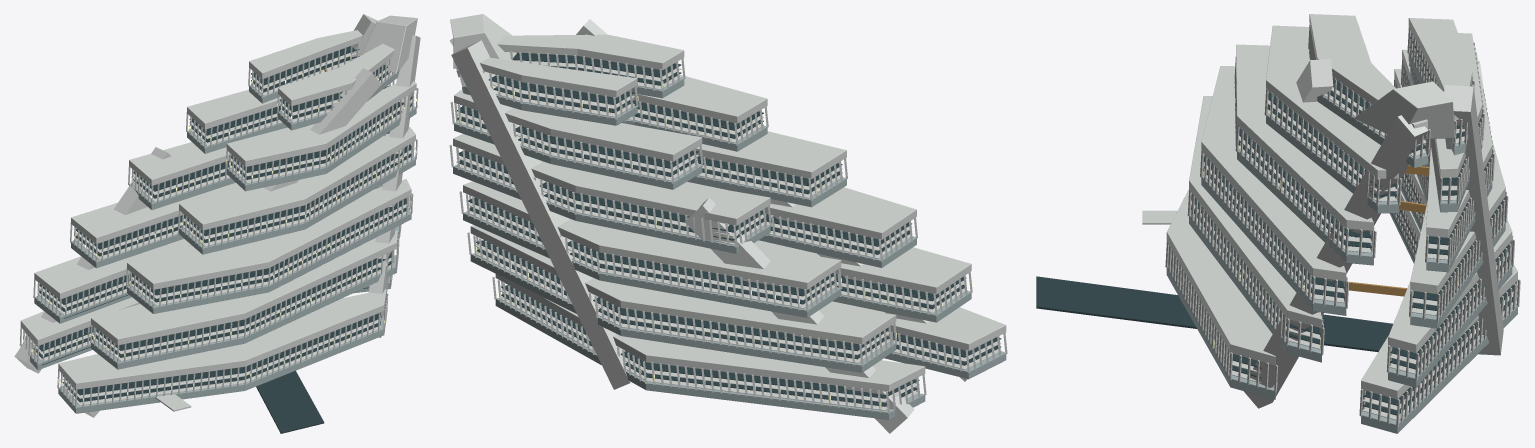
The picture shows the model from 3 angles, left to right: view 1: azimuth 30°, elevation 25°; view 2: azimuth 150°, elevation 25°; view 3: azimuth 270°, elevation 25°; orthographic projection. The views are drawn at different scales.
Parts seen in each view (by area): view 1: B02 | sunward inhabited canopy 0, B02 | sunward inhabited canopy 2, B02 | sunward inhabited canopy 1, B02 | sunward inhabited canopy 3, B02 | sunward inhabited canopy 4, B02 | landward inhabited canopy 2, B02 | landward inhabited canopy 1, B02 | sunward inhabited canopy 5, B01 | sunward tectonic plinth 0, B40 | ground portal approach, B01 | sunward tectonic plinth 1, B02 | landward inhabited canopy 3 (+43 smaller); view 2: B20 | continuous diagonal city backbone 2, B02 | landward inhabited canopy 1, B02 | landward inhabited canopy 2, B02 | landward inhabited canopy 0, B02 | landward inhabited canopy 3, B02 | landward inhabited canopy 4, B02 | sunward inhabited canopy 2, B02 | sunward inhabited canopy 5, B02 | sunward inhabited canopy 3, B02 | sunward inhabited canopy 1, B01 | landward tectonic plinth 1, B01 | landward tectonic plinth 0 (+43 smaller); view 3: B40 | ground portal approach, B02 | sunward inhabited canopy 2, B02 | sunward inhabited canopy 3, B02 | sunward inhabited canopy 0, B20 | continuous diagonal city backbone 3, B02 | sunward inhabited canopy 4, B20 | continuous diagonal city backbone 2, B02 | sunward inhabited canopy 5, B02 | sunward inhabited canopy 1, B30 | skewed inhabited crown, B02 | landward inhabited canopy 5, B02 | landward inhabited canopy 2 (+23 smaller).
Boxes of the visible parts, bbox=[...] form: B02 | sunward inhabited canopy 0: bbox=[58, 289, 386, 389]; B02 | sunward inhabited canopy 2: bbox=[127, 179, 411, 289]; B02 | sunward inhabited canopy 1: bbox=[91, 230, 397, 345]; B02 | sunward inhabited canopy 3: bbox=[179, 126, 415, 230]; B02 | sunward inhabited canopy 4: bbox=[226, 81, 416, 166]; B02 | landward inhabited canopy 2: bbox=[71, 182, 239, 243]; B02 | landward inhabited canopy 1: bbox=[34, 239, 191, 299]; B02 | sunward inhabited canopy 5: bbox=[278, 43, 394, 106]; B01 | sunward tectonic plinth 0: bbox=[58, 316, 386, 413]; B40 | ground portal approach: bbox=[256, 370, 324, 433]; B01 | sunward tectonic plinth 1: bbox=[91, 255, 397, 369]; B02 | landward inhabited canopy 3: bbox=[129, 142, 231, 185]; B20 | continuous diagonal city backbone 2: bbox=[451, 40, 631, 389]; B02 | landward inhabited canopy 1: bbox=[470, 225, 896, 344]; B02 | landward inhabited canopy 2: bbox=[463, 181, 841, 289]; B02 | landward inhabited canopy 0: bbox=[495, 274, 925, 391]; B02 | landward inhabited canopy 3: bbox=[453, 134, 770, 225]; B02 | landward inhabited canopy 4: bbox=[454, 90, 702, 161]; B02 | sunward inhabited canopy 2: bbox=[685, 181, 916, 239]; B02 | sunward inhabited canopy 5: bbox=[497, 34, 684, 70]; B02 | sunward inhabited canopy 3: bbox=[695, 131, 846, 179]; B02 | sunward inhabited canopy 1: bbox=[754, 240, 971, 294]; B01 | landward tectonic plinth 1: bbox=[470, 252, 896, 372]; B01 | landward tectonic plinth 0: bbox=[495, 297, 925, 419]; B40 | ground portal approach: bbox=[1036, 276, 1392, 351]; B02 | sunward inhabited canopy 2: bbox=[1201, 66, 1346, 281]; B02 | sunward inhabited canopy 3: bbox=[1236, 44, 1373, 230]; B02 | sunward inhabited canopy 0: bbox=[1166, 189, 1275, 365]; B20 | continuous diagonal city backbone 3: bbox=[1244, 115, 1428, 408]; B02 | sunward inhabited canopy 4: bbox=[1266, 25, 1398, 178]; B20 | continuous diagonal city backbone 2: bbox=[1444, 85, 1503, 355]; B02 | sunward inhabited canopy 5: bbox=[1309, 14, 1427, 129]; B02 | sunward inhabited canopy 1: bbox=[1189, 96, 1321, 328]; B30 | skewed inhabited crown: bbox=[1354, 81, 1455, 139]; B02 | landward inhabited canopy 5: bbox=[1408, 18, 1472, 120]; B02 | landward inhabited canopy 2: bbox=[1394, 69, 1505, 294].
Size of the model in its own units: 6103 by 3712 by 4345.
